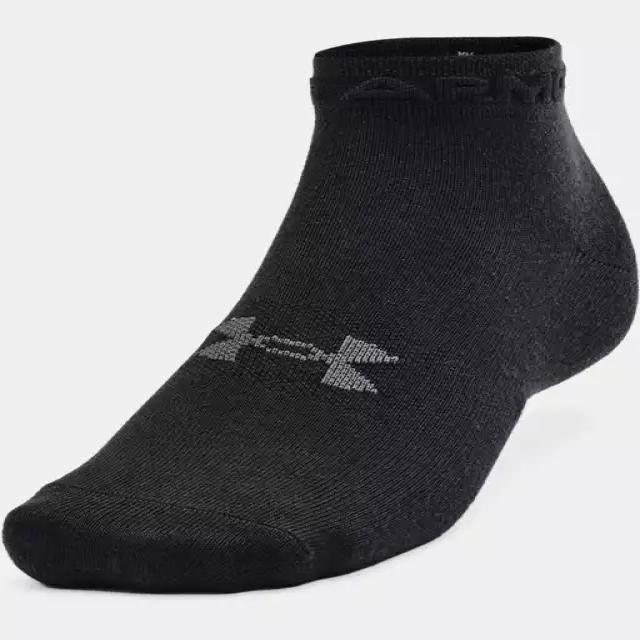sock: (1, 34, 639, 594)
